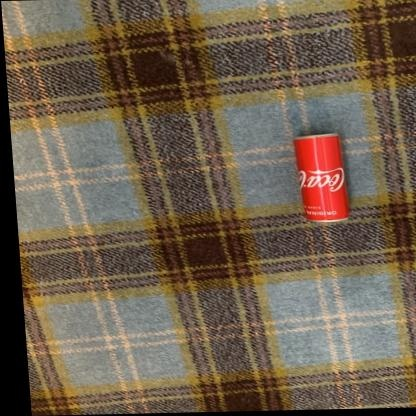trash: (294, 134, 348, 220)
